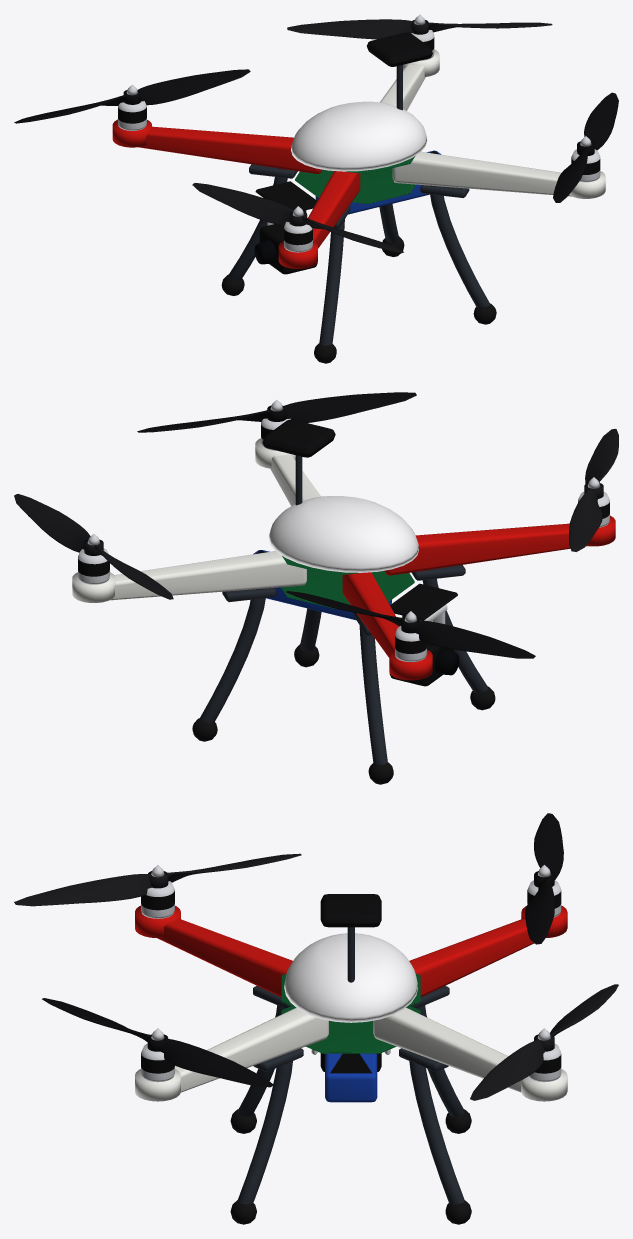
The model's file is quadrotor_drone.light.glb.
3 renders of one model, top to bottom at view 1: azimuth 30°, elevation 25°; view 2: azimuth 150°, elevation 25°; view 3: azimuth 270°, elevation 25°, orthographic. The views are drawn at different scales.
Visible parts, largest first — view 1: canopy, arm_3, arm_1, arm_2, bottom_plate, prop_1_blade_1, prop_4_blade_1, prop_2_blade_1, leg_3, leg_2, gps_puck, prop_3_blade_1 (+13 smaller); view 2: canopy, arm_4, arm_2, arm_1, prop_3_blade_2, prop_1_blade_2, leg_4, bottom_plate, leg_1, gps_puck, prop_4_blade_2, gimbal_plate (+15 smaller); view 3: canopy, arm_4, arm_3, arm_2, arm_1, prop_2_blade_2, leg_4, leg_3, prop_3_blade_1, battery__battery, gps_puck, bottom_plate (+13 smaller).
Boxes of the visible parts, x1,y1,x2,y2 form: canopy: [291, 101, 427, 171]; arm_3: [392, 151, 571, 196]; arm_1: [138, 126, 322, 173]; arm_2: [308, 171, 360, 248]; bottom_plate: [295, 168, 415, 204]; prop_1_blade_1: [137, 69, 250, 105]; prop_4_blade_1: [287, 19, 413, 39]; prop_2_blade_1: [192, 183, 293, 225]; leg_3: [430, 185, 489, 307]; leg_2: [319, 219, 344, 345]; gps_puck: [367, 32, 432, 66]; prop_3_blade_1: [584, 92, 618, 150]; canopy: [268, 496, 418, 572]; arm_4: [109, 551, 306, 600]; arm_2: [384, 523, 587, 575]; arm_1: [342, 572, 398, 657]; prop_3_blade_2: [282, 392, 416, 422]; prop_1_blade_2: [415, 620, 535, 658]; leg_4: [199, 588, 265, 723]; bottom_plate: [281, 569, 414, 608]; leg_1: [359, 626, 387, 764]; gps_puck: [262, 419, 335, 457]; prop_4_blade_2: [14, 494, 90, 552]; gimbal_plate: [390, 583, 457, 620]; canopy: [284, 933, 417, 1022]; arm_4: [373, 1008, 521, 1092]; arm_3: [175, 1008, 328, 1092]; arm_2: [158, 919, 292, 997]; arm_1: [409, 919, 534, 997]; prop_2_blade_2: [14, 874, 151, 906]; leg_4: [409, 1051, 464, 1204]; leg_3: [237, 1051, 292, 1204]; prop_3_blade_1: [161, 1038, 273, 1087]; battery__battery: [325, 1053, 377, 1102]; gps_puck: [320, 894, 381, 927]; bottom_plate: [281, 1006, 420, 1053].
Bounding box in the file's own units: 0.5586 × 0.2699 × 0.4981.
